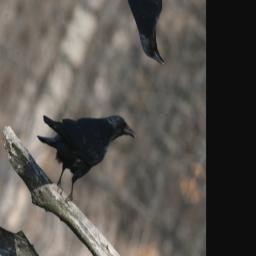Crow: (23, 62, 139, 234)
